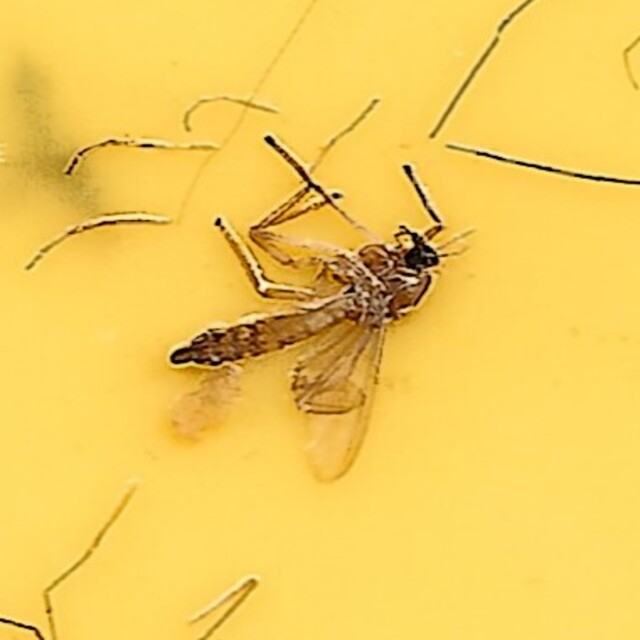Nematocera: (168, 143, 472, 497)
